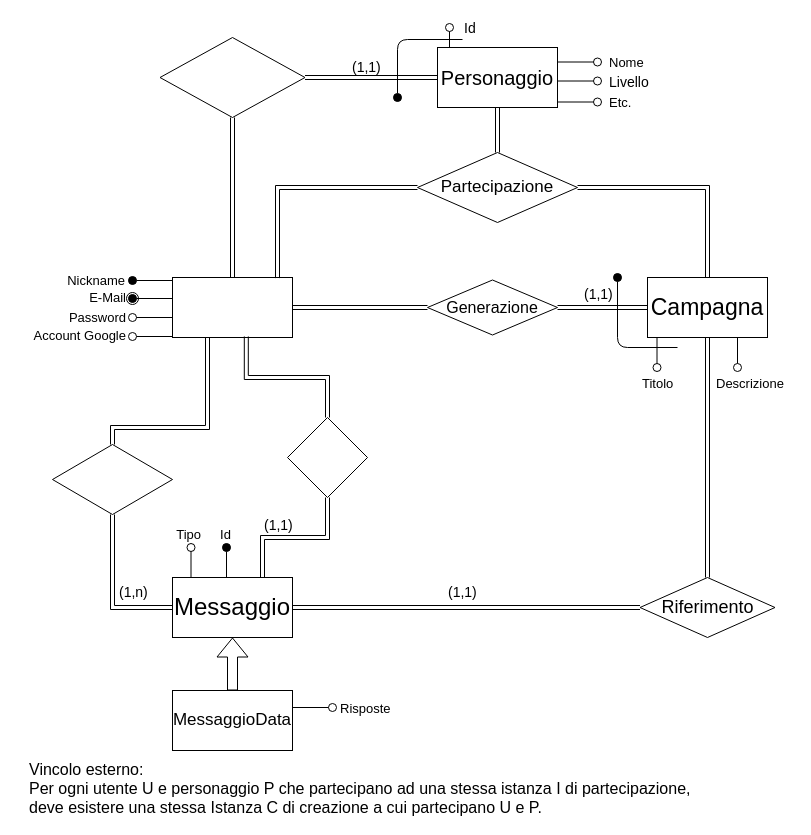
Image size: 811x835. Some labels were removed from this diagram. Here are the shapes that lost their labels. From the top down, the centre of each, then its label:
At point 232,77: "Creazione".
At point 232,307: "Utente".
At point 327,457: "Invio".
At point 112,479: "Ricezione".
